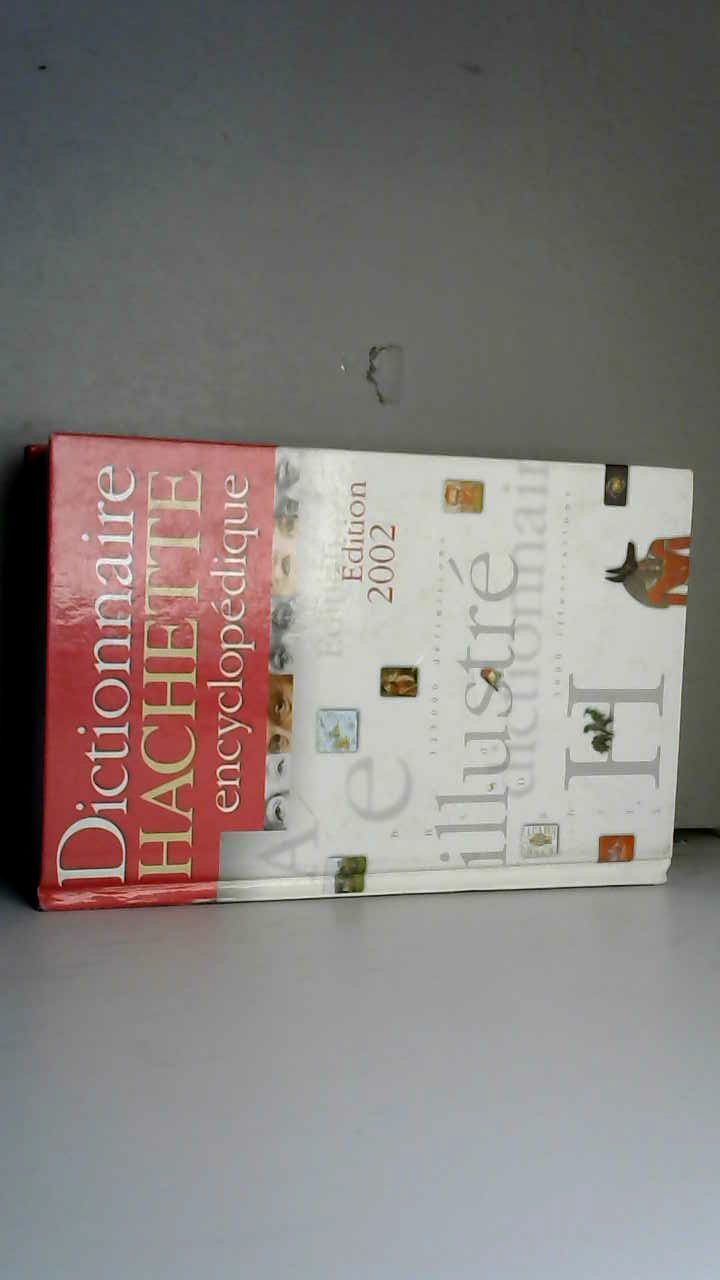book: (5, 416, 708, 930)
